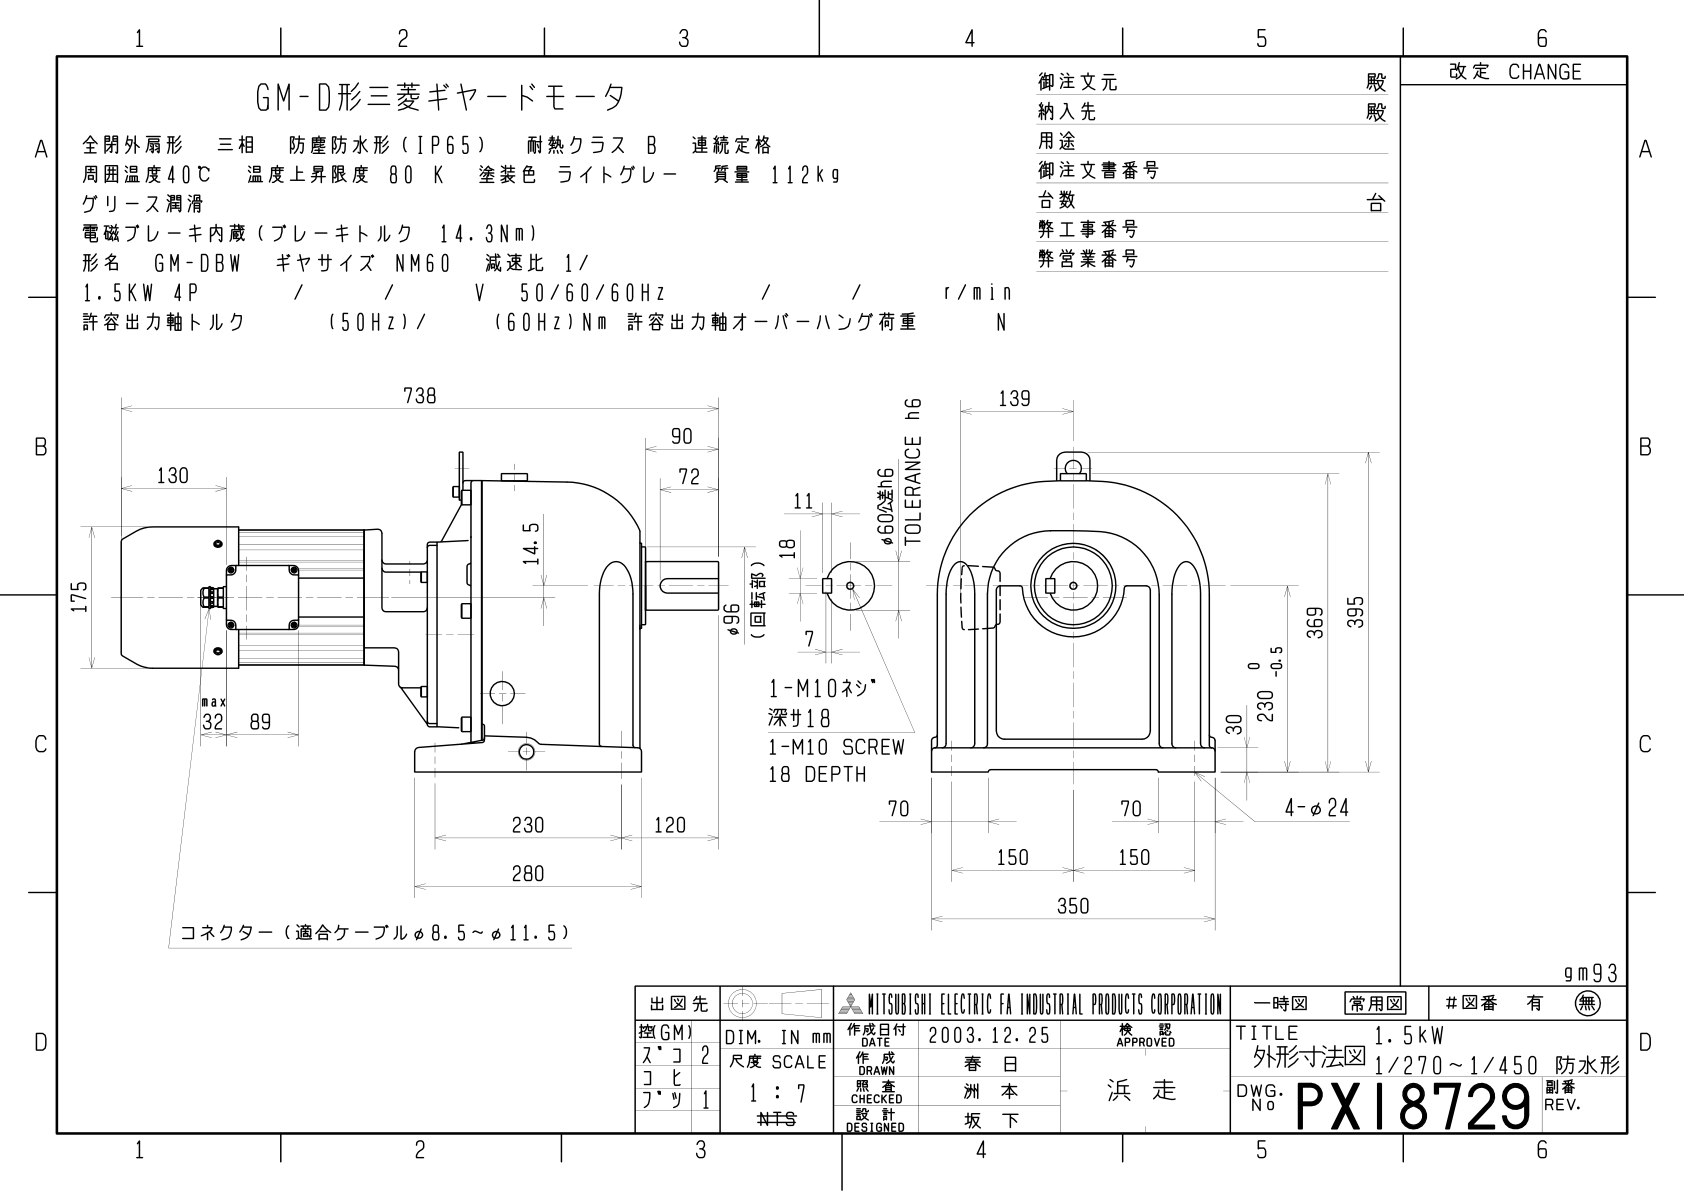GM_D_IP65_三相_脚: (61, 349, 1385, 962)
